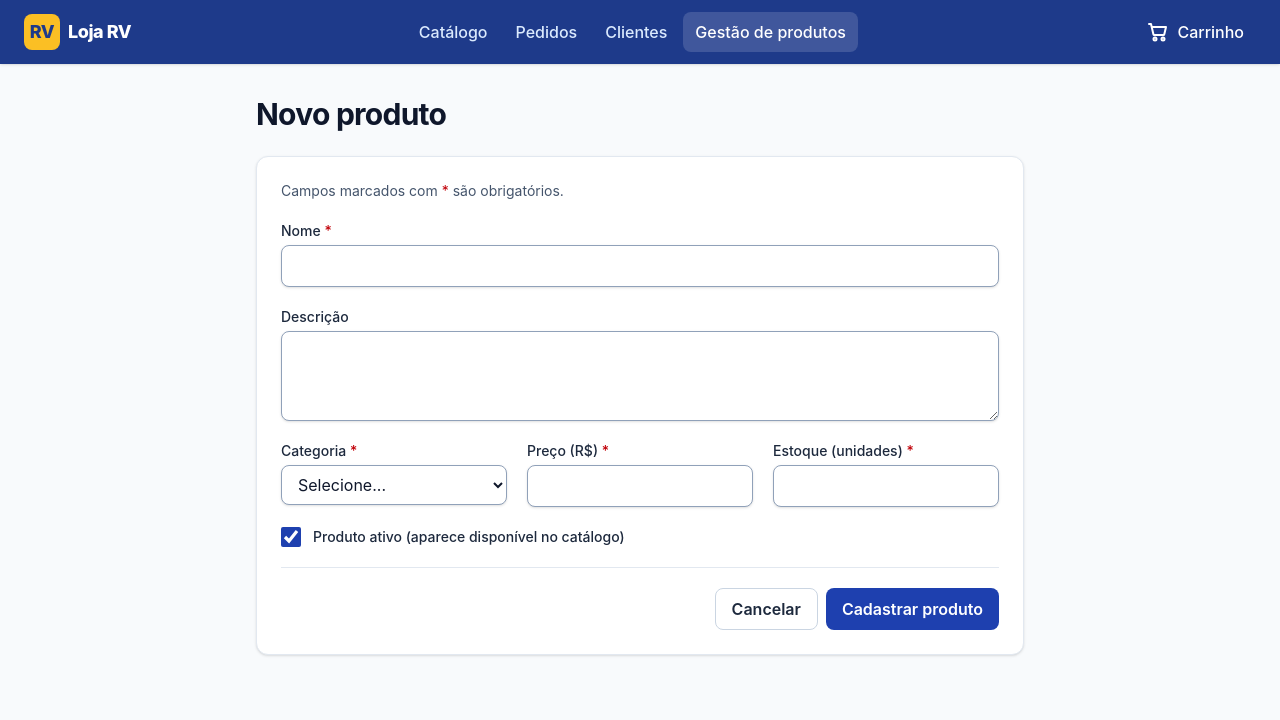
Test: Gestão de produtos › valida o formulário e cadastra um produto
The width and height of the screenshot is (1280, 720).
Click the button "Cadastrar produto".
click(912, 609)  # box [826, 588, 999, 630]
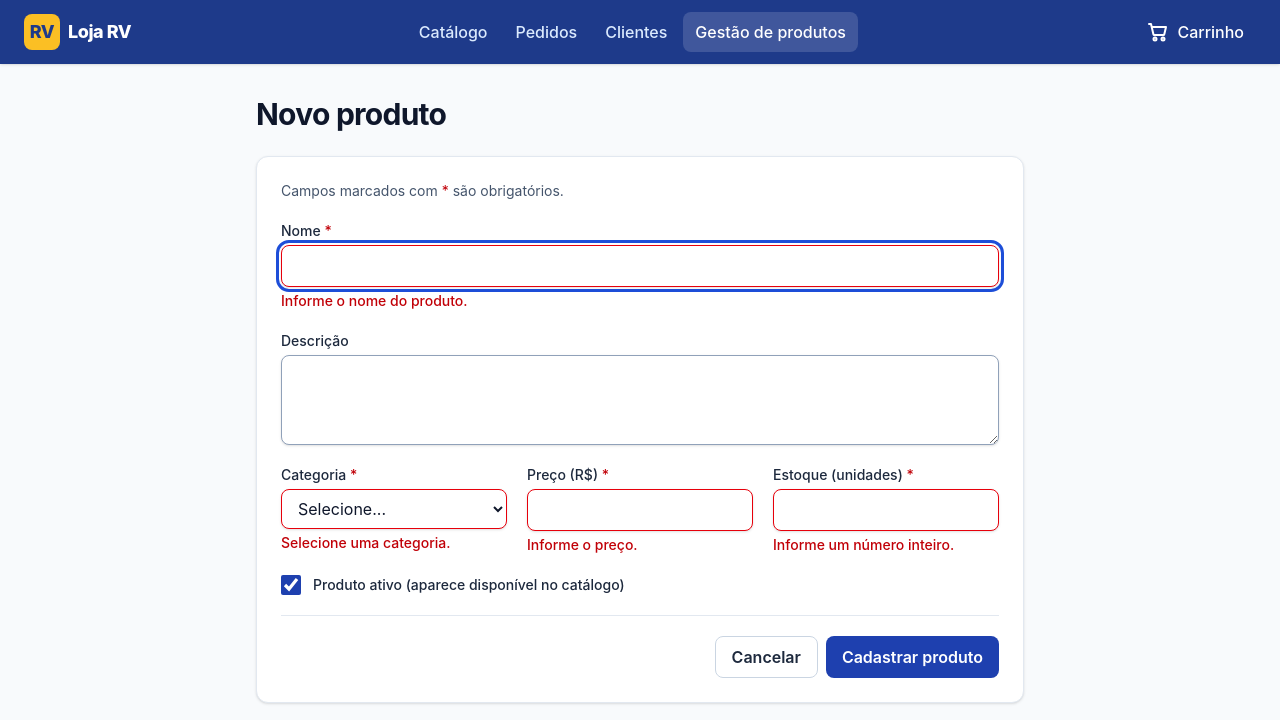
Result: the text "Informe o nome do produto." is shown at [281, 292, 468, 309]
Type "Caneca Térmica" into the field labelled "Nome *".
click(640, 266); type("Caneca Térmica")  # box [281, 245, 999, 287]
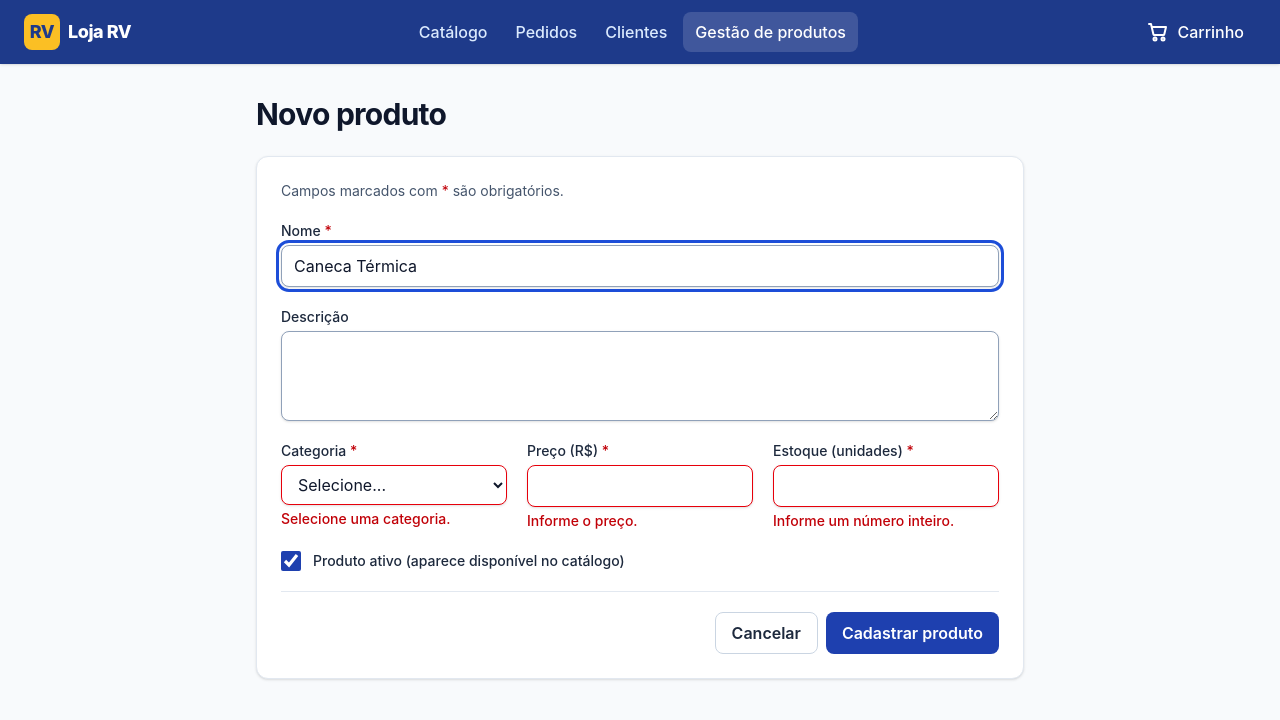
Select "Casa" in the dropdown labelled "Categoria *" at (394, 485), box [281, 465, 507, 505]
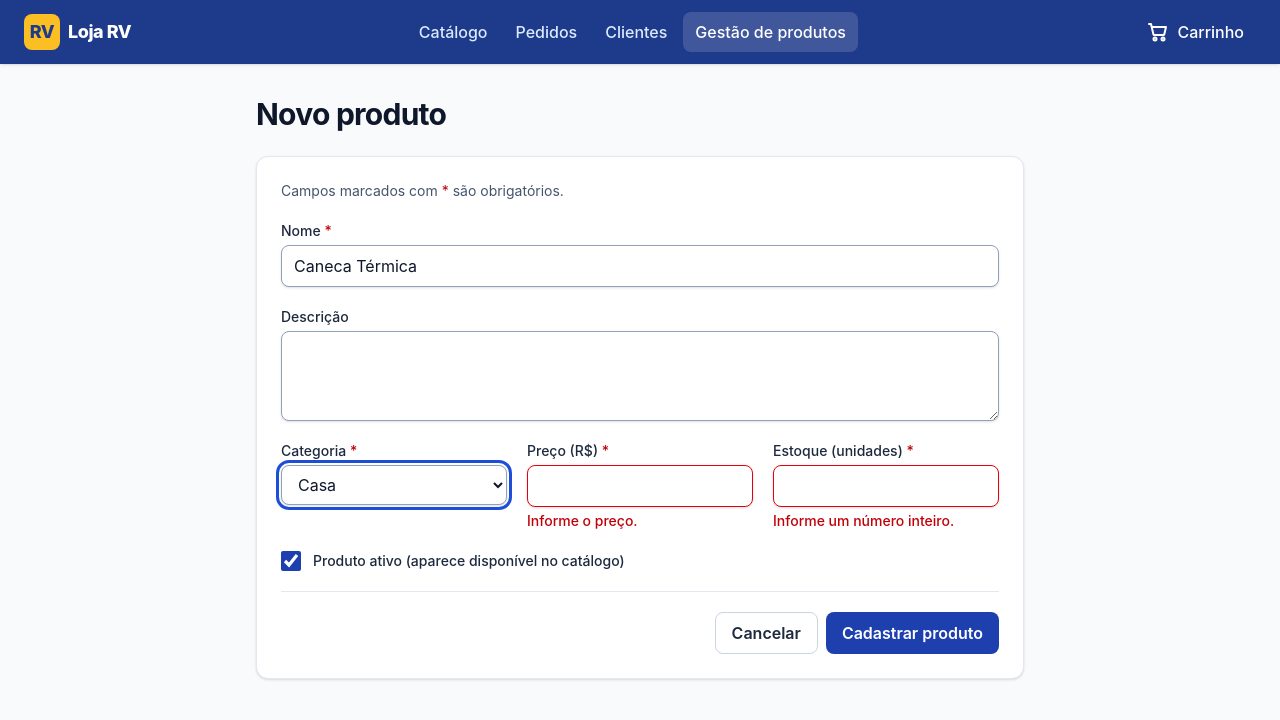
Type "59.9" into the number field labelled "Preço (R$) *".
click(640, 486); type("59.9")  # box [527, 465, 753, 507]
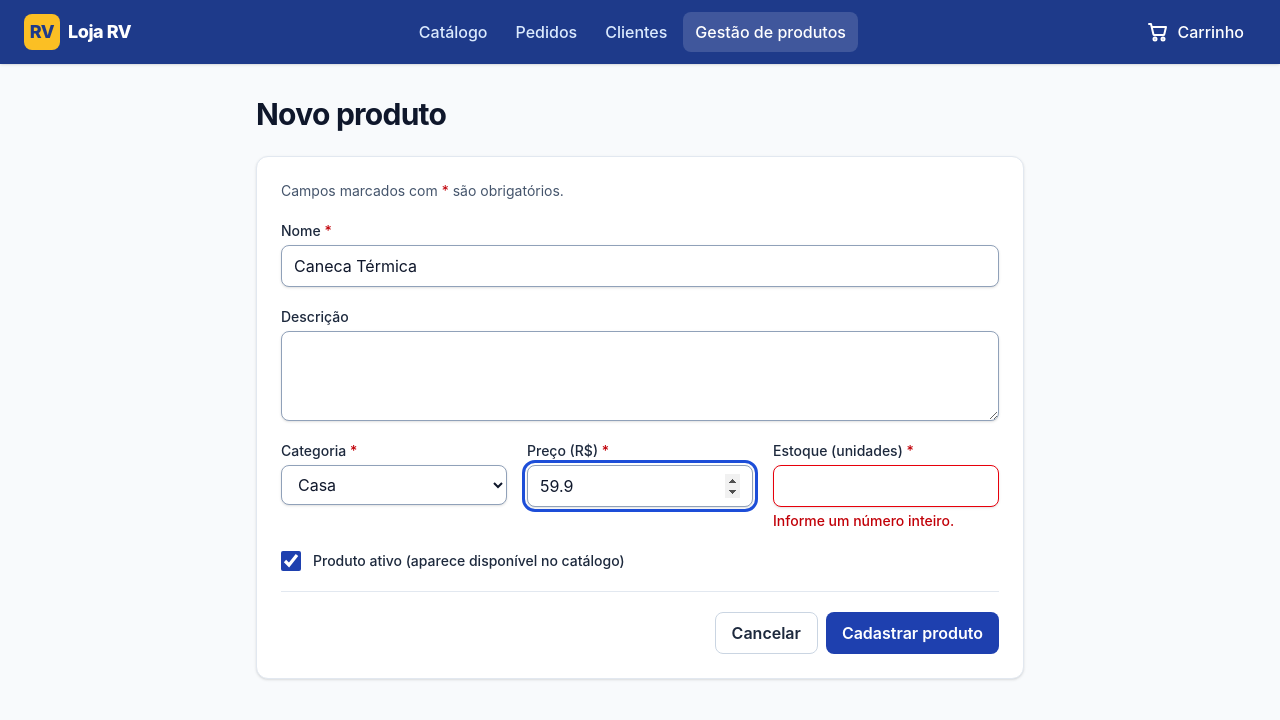
Type "10" into the number field labelled "Estoque (unidades) *".
click(886, 486); type("10")  # box [773, 465, 999, 507]
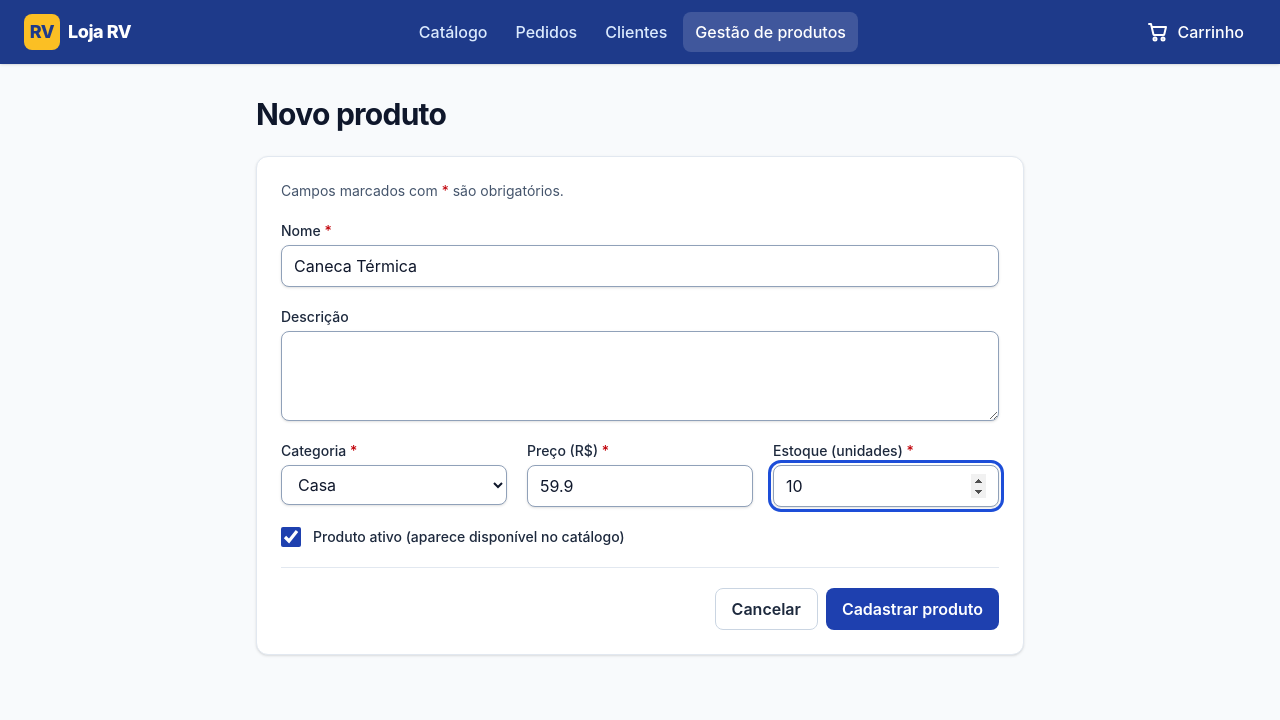
Click the button "Cadastrar produto".
click(912, 609)  # box [826, 588, 999, 630]
(page scrolled)
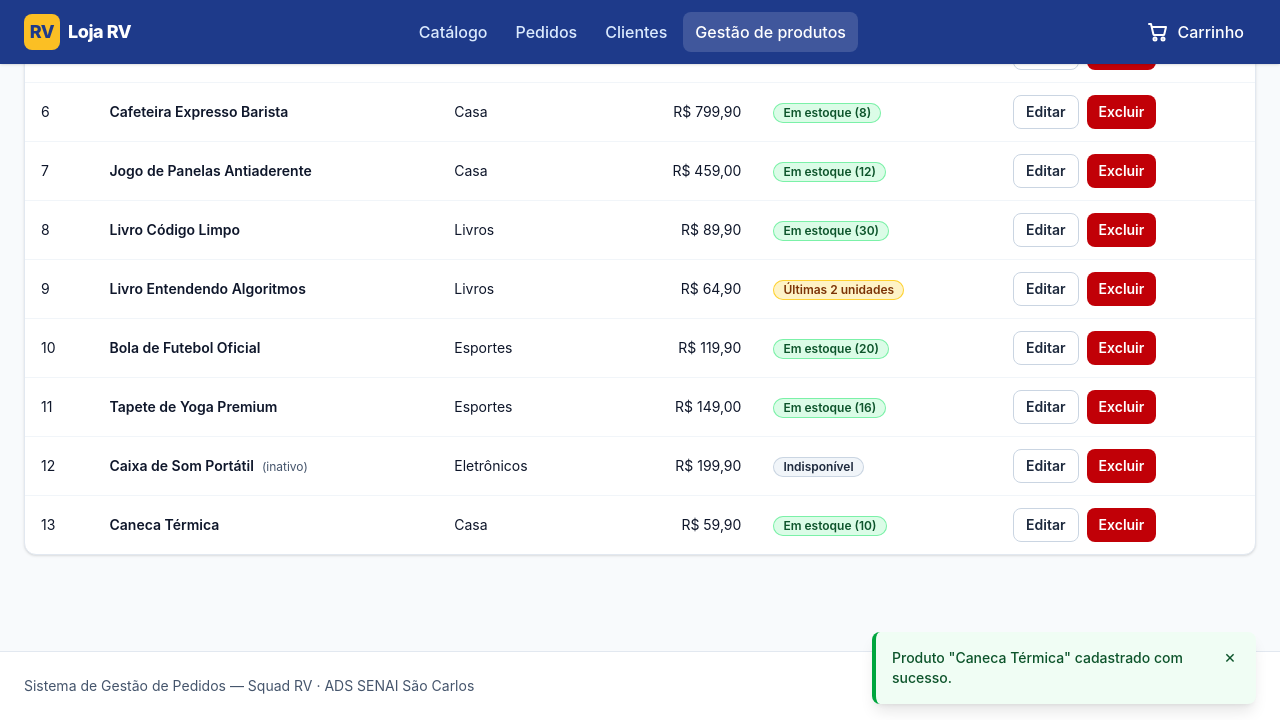
Result: the text "Caneca Térmica" is shown at [110, 516, 219, 533]
